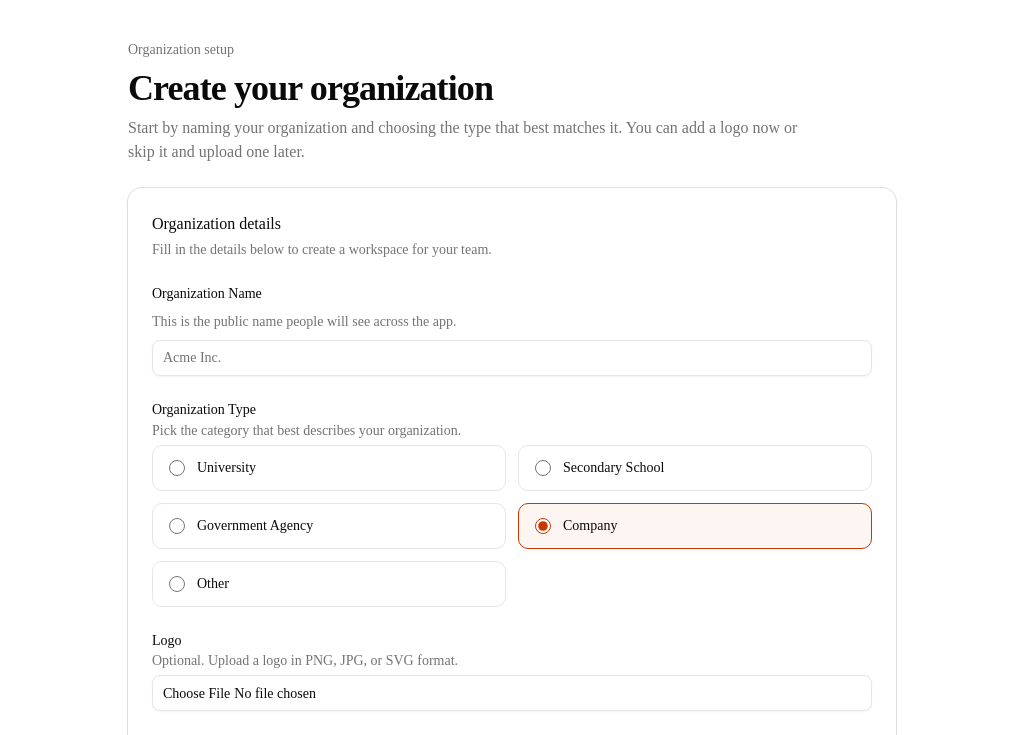
Test case: OrgSetup (Organization Creation) › displays an error message when organization creation fails
Type "Acme Inc" into the field labelled "Organization Name" at (512, 358), box [152,340,872,376]
(page scrolled)
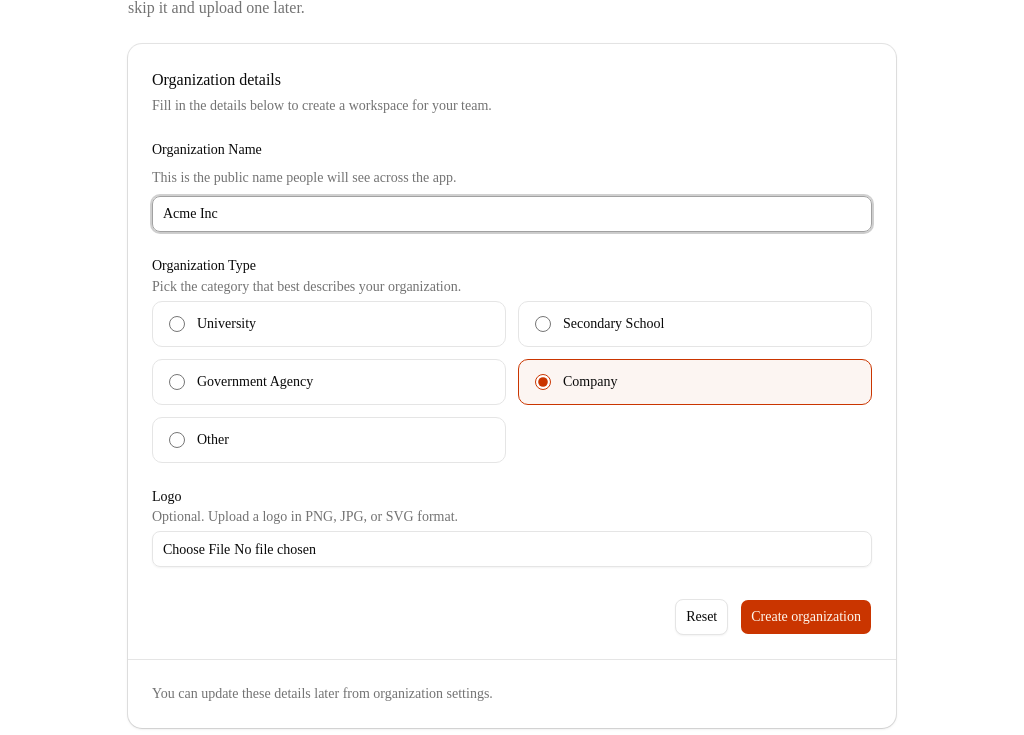
Click the button "Create organization" at (806, 617), box [740,599,872,635]
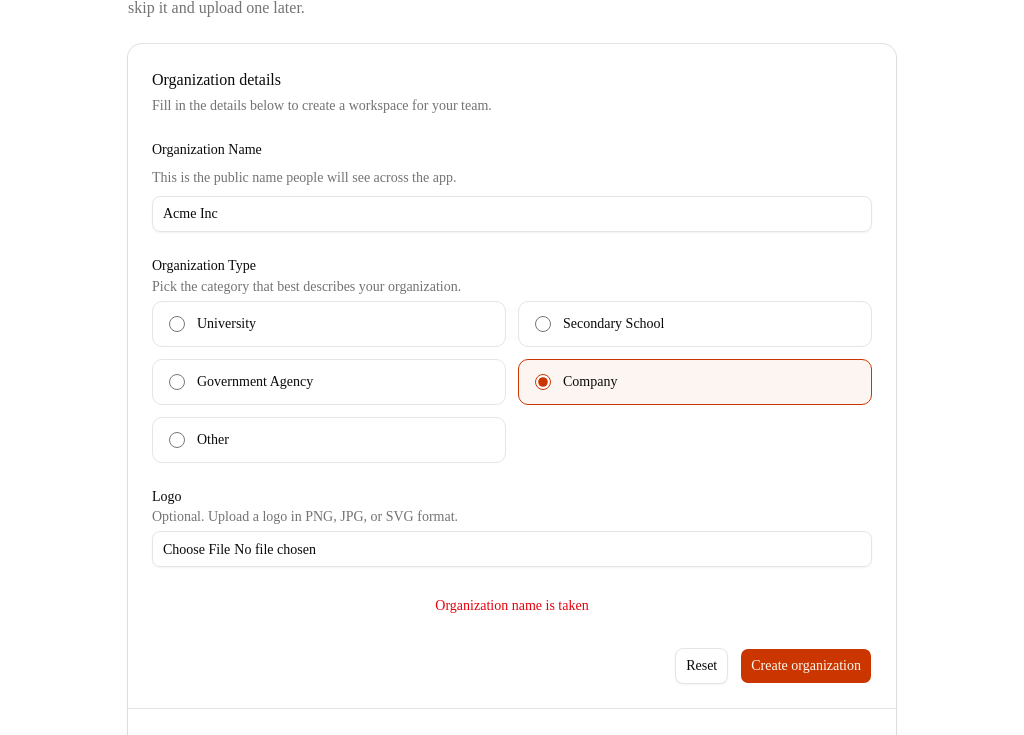
Now the text "Organization name is taken" is shown, box [435,598,589,613]
